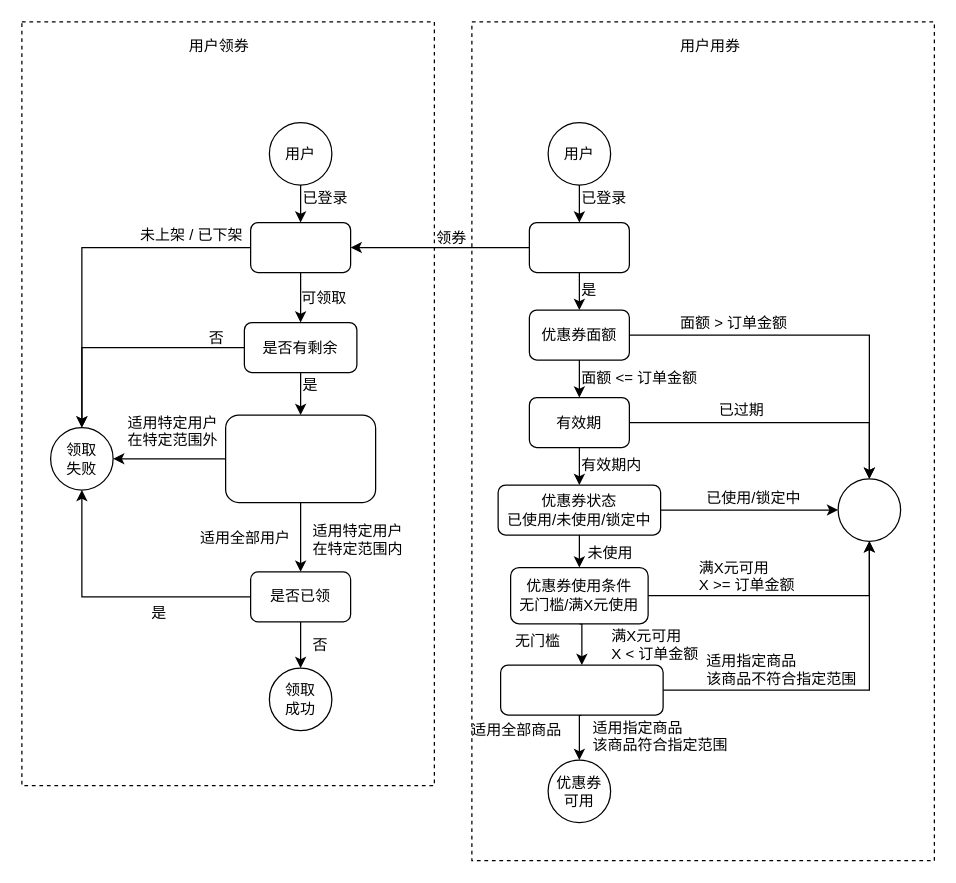
This 956x883 diagram has some shape labels left out. Here are the shapes that lost their labels. From the top down, the centre of each, then its label:
the point at 300,246: 优惠券状态
the point at 578,246: 是否有优惠券
the point at 300,458: 优惠券适用对象 全部用户/新注册用户/未消费用户/指定用户
the point at 869,509: 优惠券 不可用
the point at 581,689: 优惠券适用商品 全部商品/指定商品
